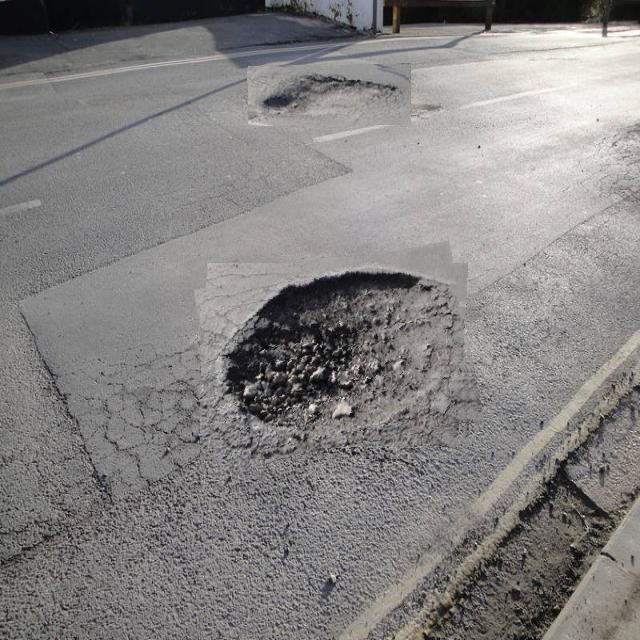Pothole: (200, 252, 477, 459), (248, 65, 411, 125)
